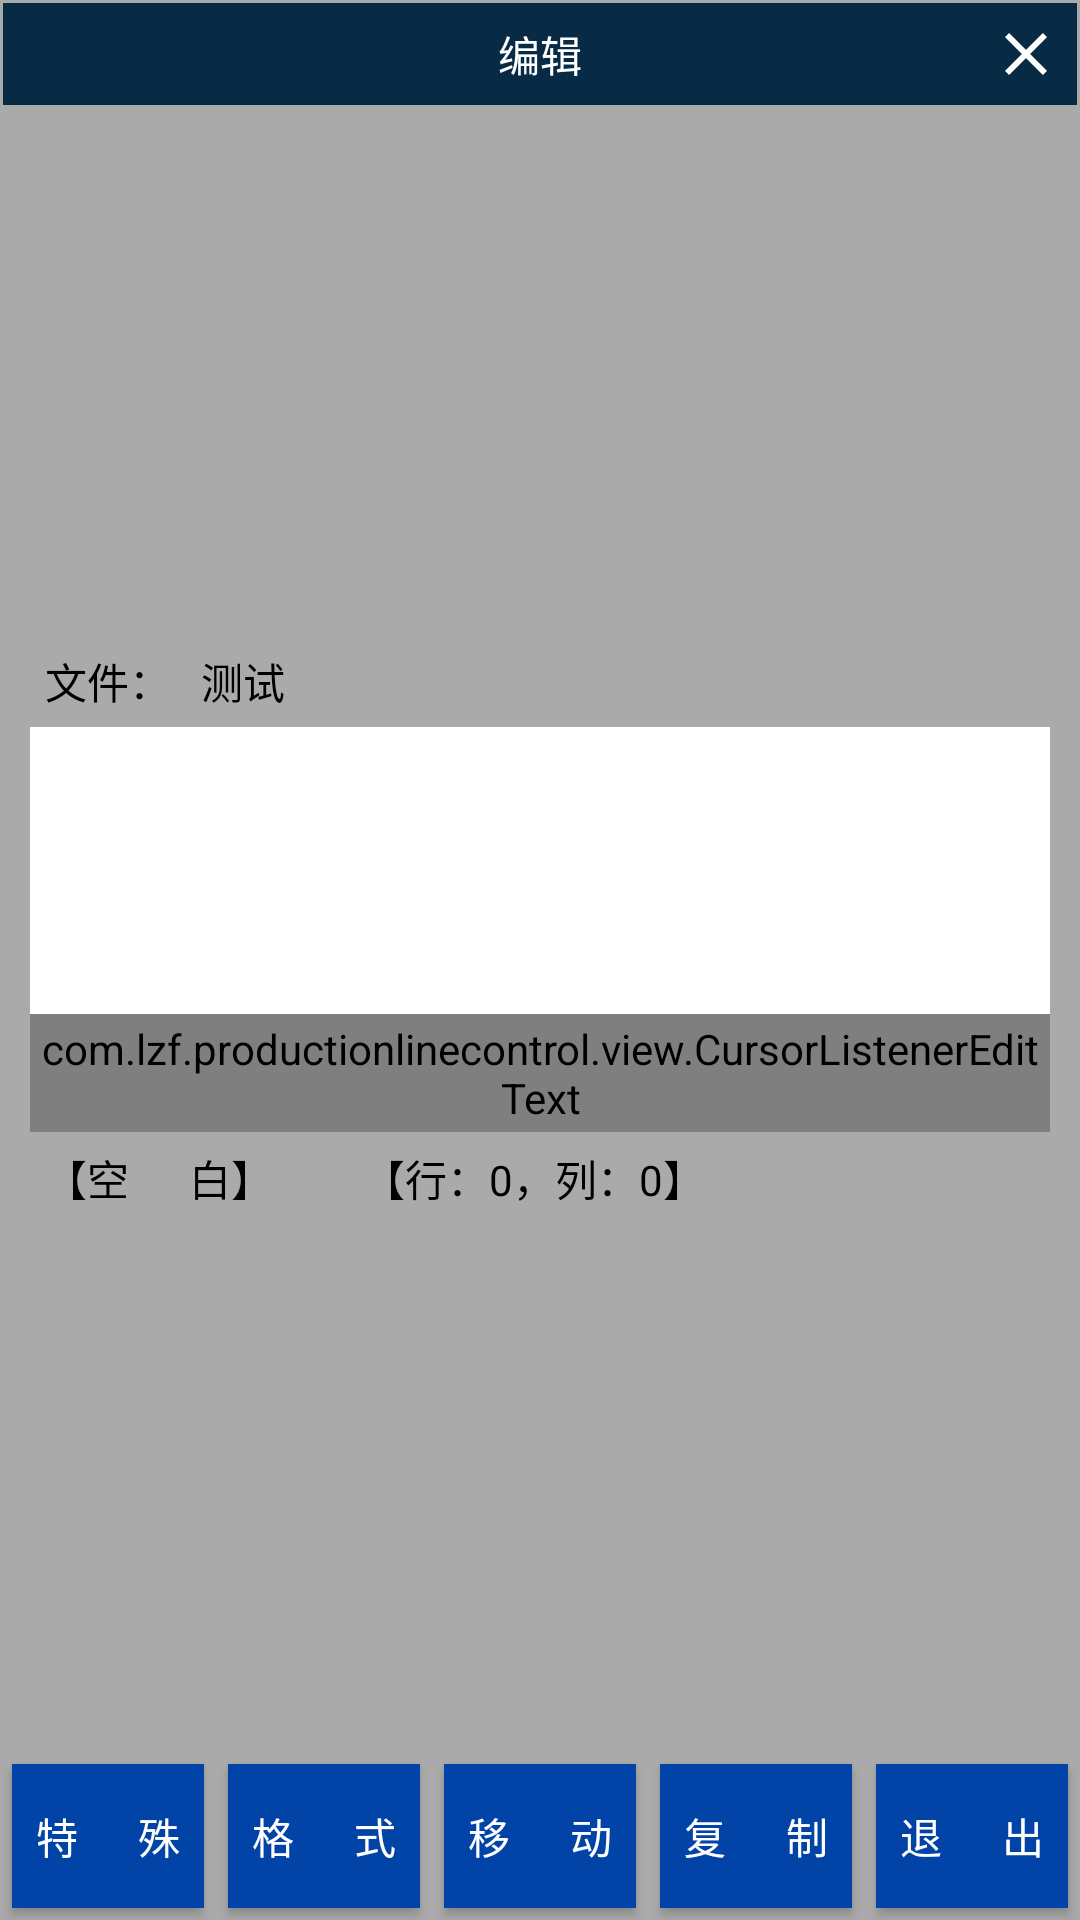

Named icons in this screenshot (1080 x 1920) and their centers, point (x, y):
close: point (1026, 54)
